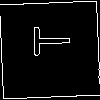T: (24, 25, 71, 57)
